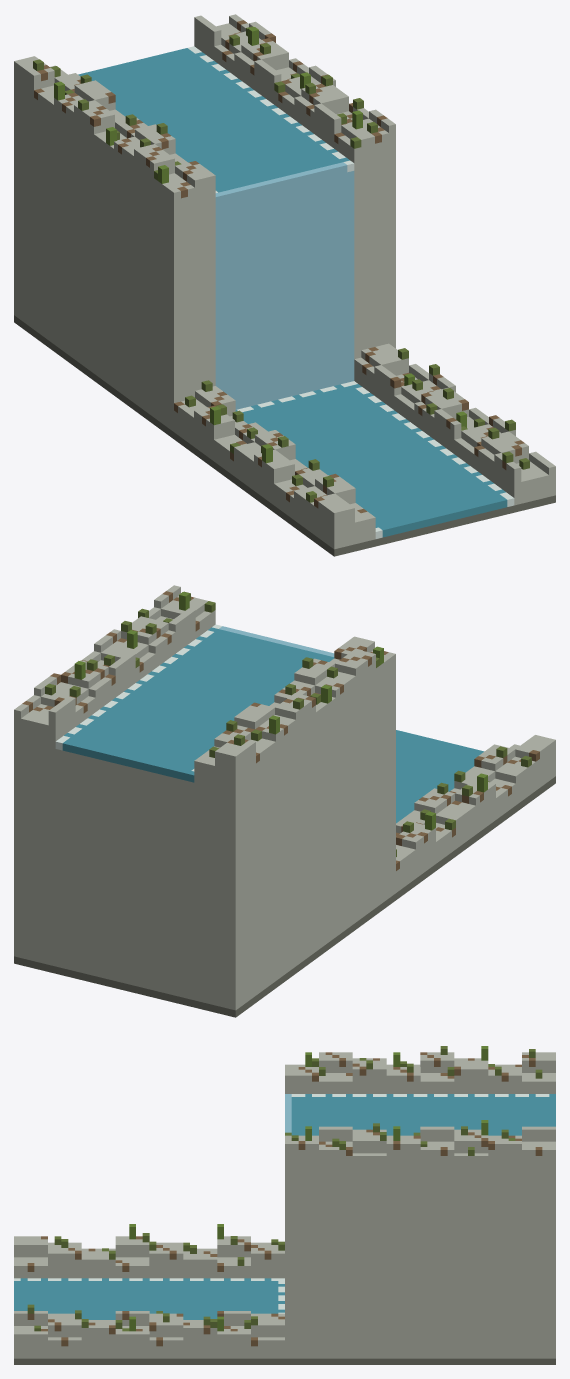
The model's file is visual-far.glb.
The picture shows the model from 3 angles, top to bottom: view 1: azimuth 30°, elevation 25°; view 2: azimuth 150°, elevation 25°; view 3: azimuth 270°, elevation 25°; orthographic projection. The views are drawn at different scales.
Visible parts, largest first — view 1: 单瀑四段共享落水路径组件; view 2: 单瀑四段共享落水路径组件; view 3: 单瀑四段共享落水路径组件.
Part boxes in pixels (left/top/right/bottom): 单瀑四段共享落水路径组件: left=14, top=14, right=555, bottom=556; 单瀑四段共享落水路径组件: left=14, top=585, right=555, bottom=1017; 单瀑四段共享落水路径组件: left=14, top=1046, right=555, bottom=1364.
Size of the model in its own units: 6.4 by 7.6 by 16.
Materials: 8 (5 with a texture image).
